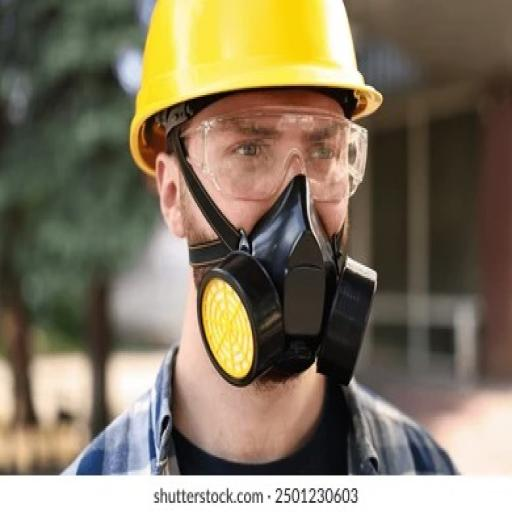mask: (198, 188, 382, 407)
